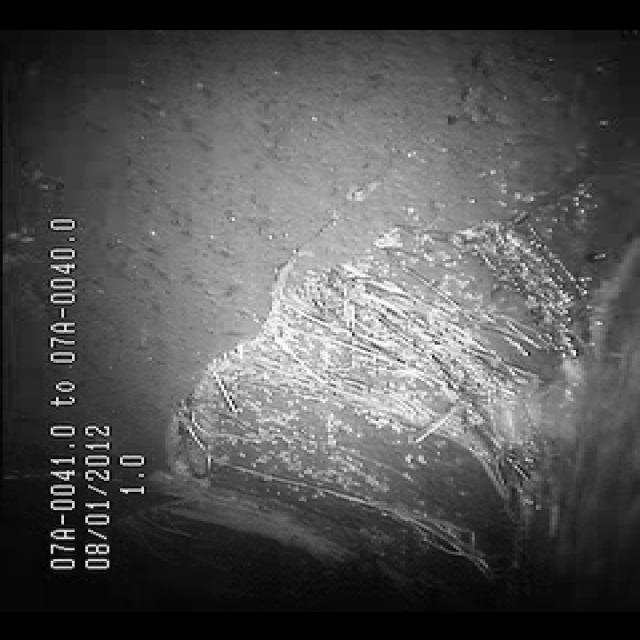Crack: (144, 174, 388, 404)
